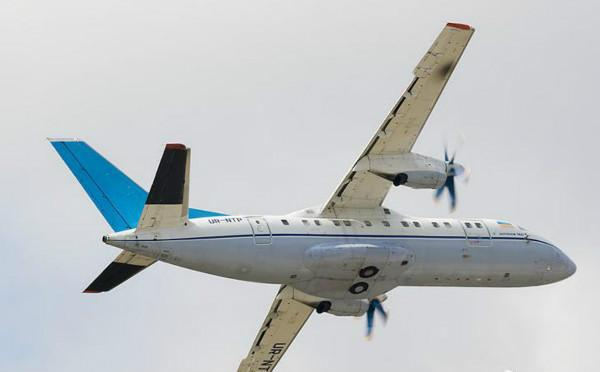airplane: (43, 21, 578, 372)
